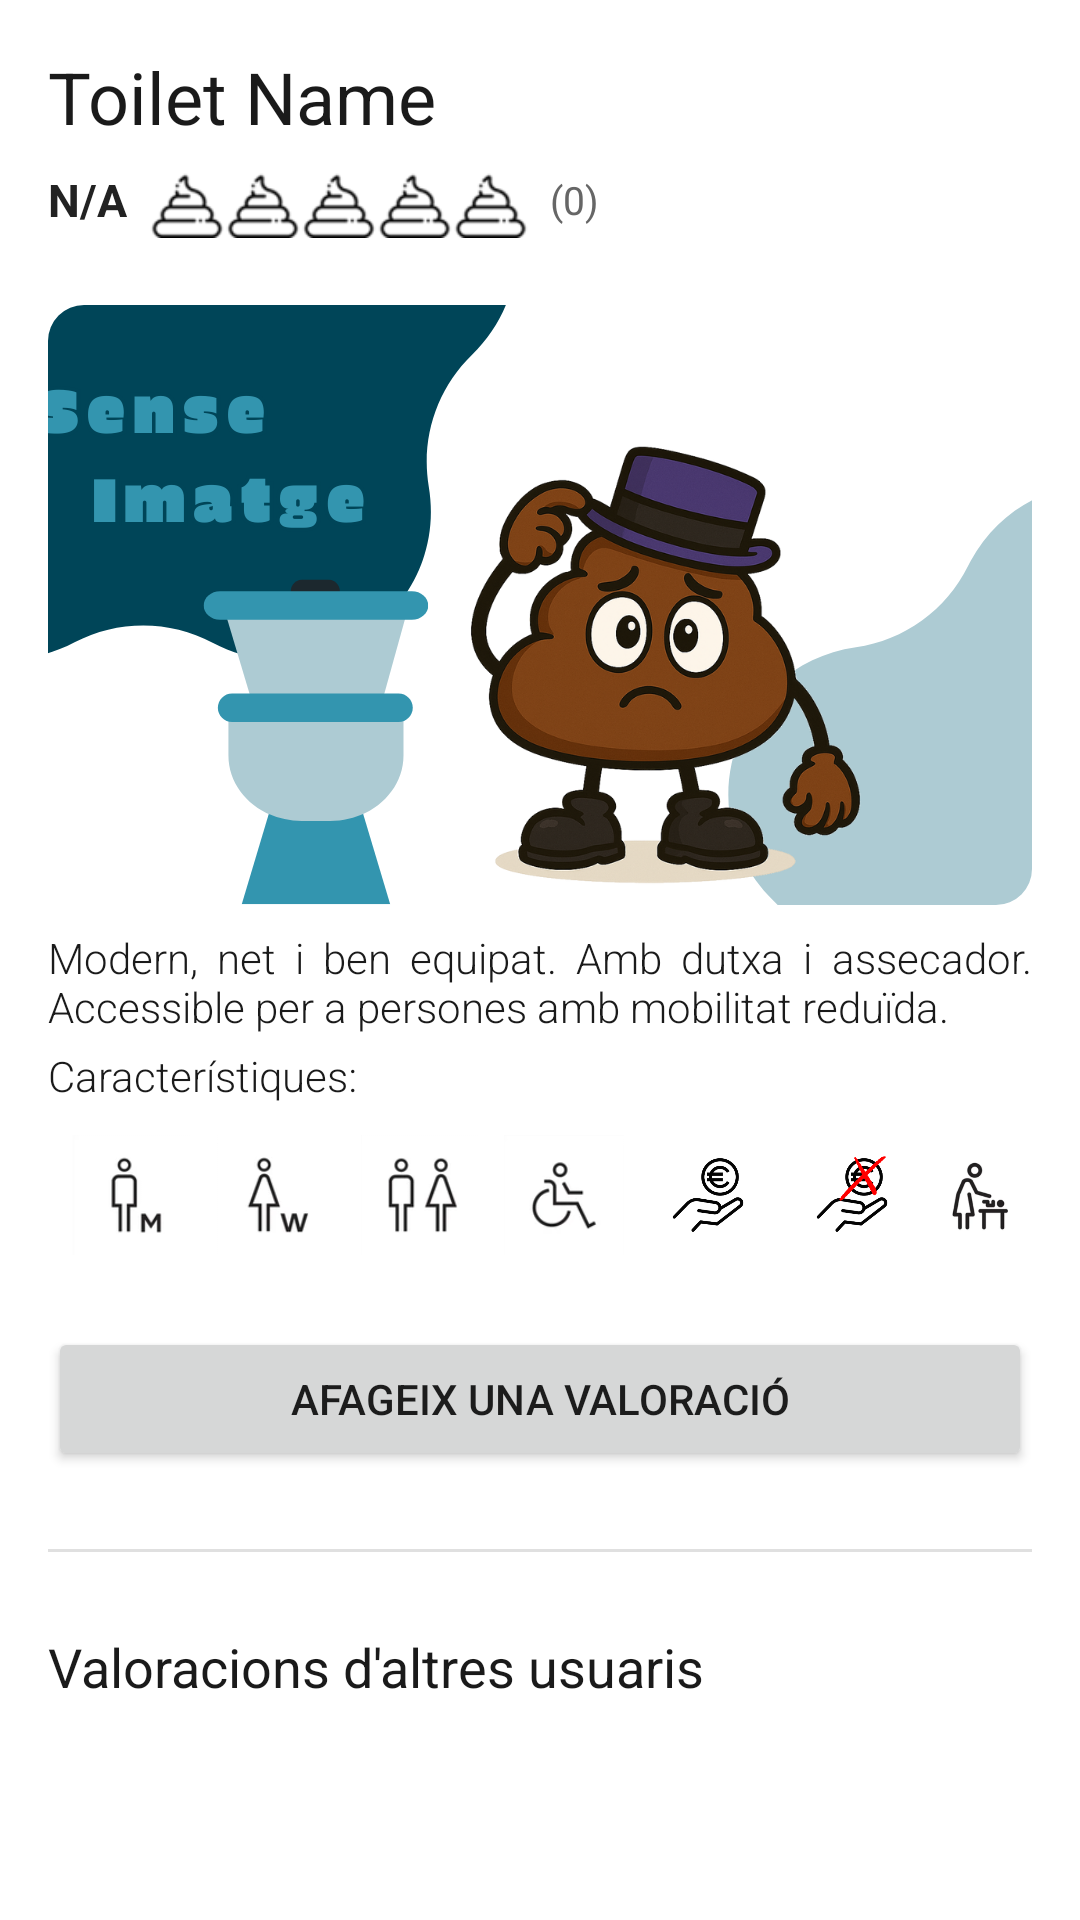

Screen size 1080x1920. Icon name, then its center in pixels as point (x, y):
men: point (136, 1195)
not payment: point (852, 1194)
payment: point (708, 1195)
unisex: point (422, 1195)
women: point (278, 1195)
